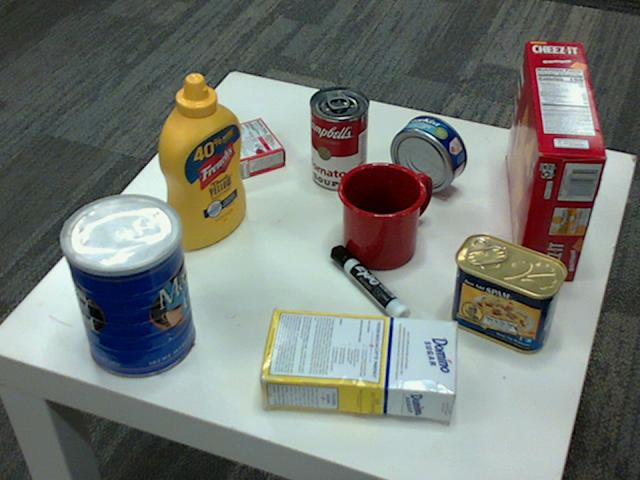cracker_box: (504, 39, 606, 278)
gelatin_box: (195, 115, 286, 182)
large_marker: (330, 246, 409, 328)
master_chef_can: (57, 195, 193, 380)
mug: (335, 160, 427, 267)
mustard_bottle: (156, 73, 246, 249)
potted_meat_can: (448, 233, 566, 353)
sugar_box: (253, 306, 454, 419)
tomato_soup_can: (308, 86, 368, 190)
tuna_fish_can: (389, 114, 465, 191)
